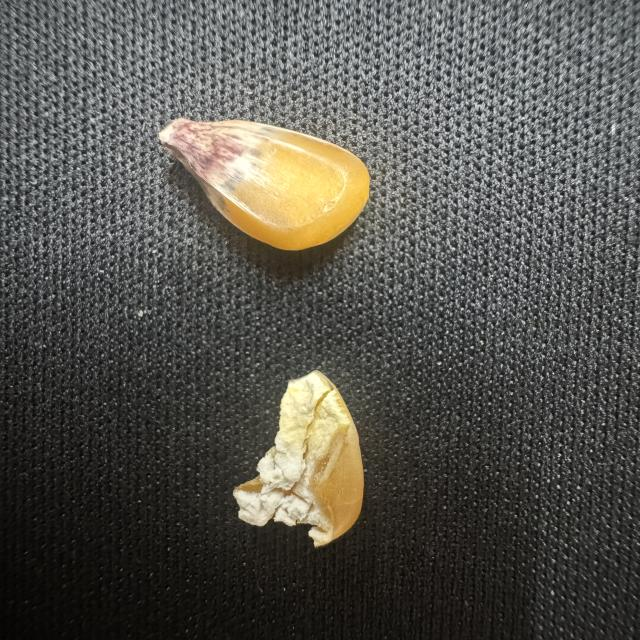Bad-Seed: (140, 108, 369, 264), (229, 359, 380, 558)
